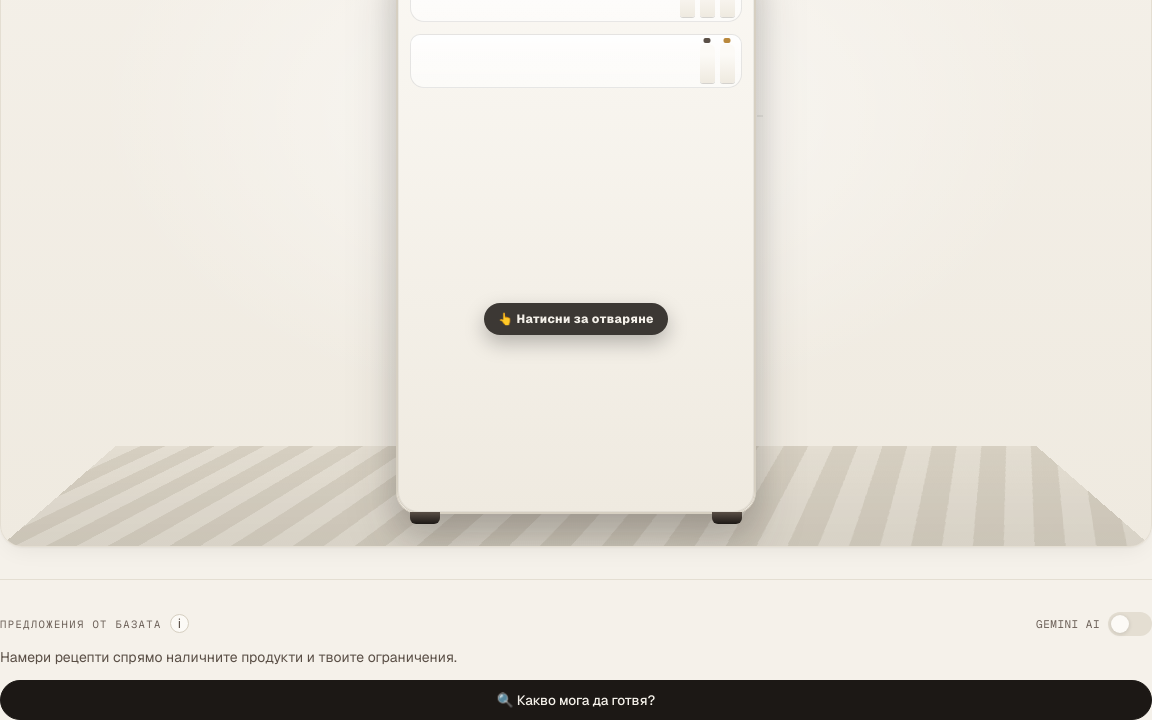
Test: FridgeScreen – Try different for Recipe API › shows the button after Recipe API falls back to matchFromFridge
(page scrolled)
Click the button "🔍 Какво мога да готвя?" at (576, 700), box [0,680,1151,719]
(page scrolled)
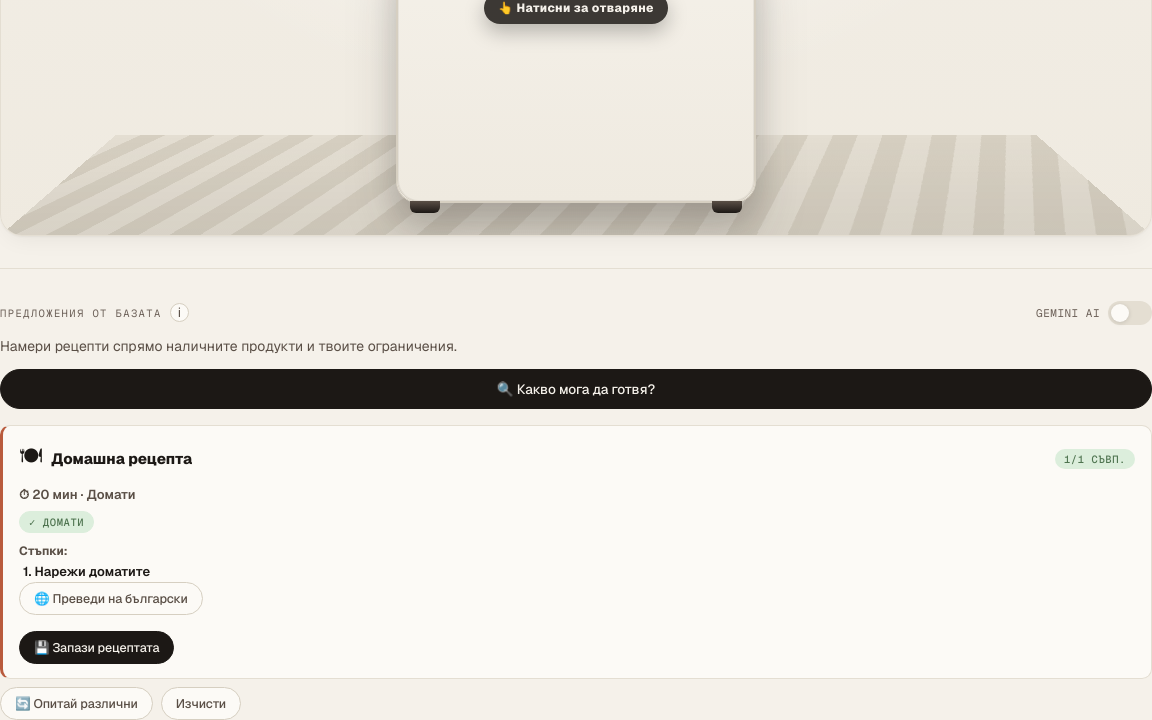
Check: the text "Домашна рецепта" is shown, box [51,450,192,468]
Check: the button "🔄 Опитай различни" is shown, box [0,687,153,719]
